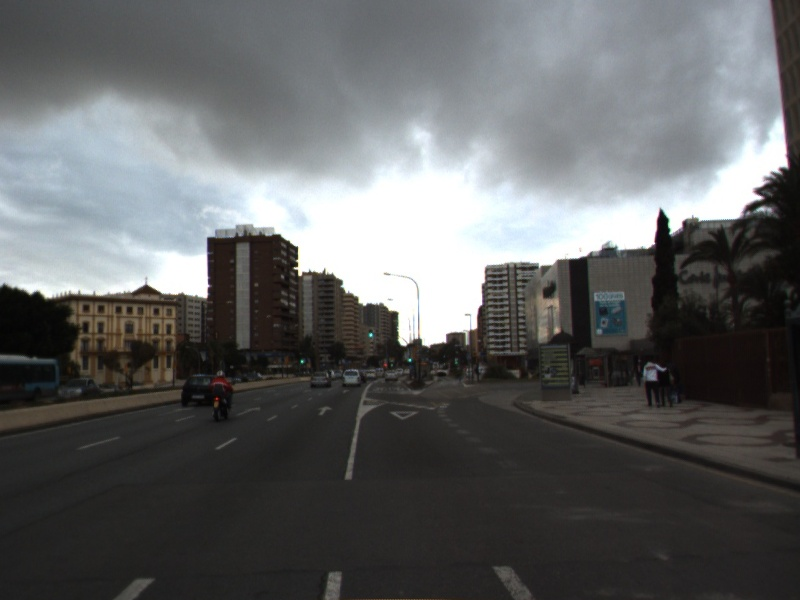STRAIGHT: (234, 405, 262, 418), (315, 404, 335, 417)
